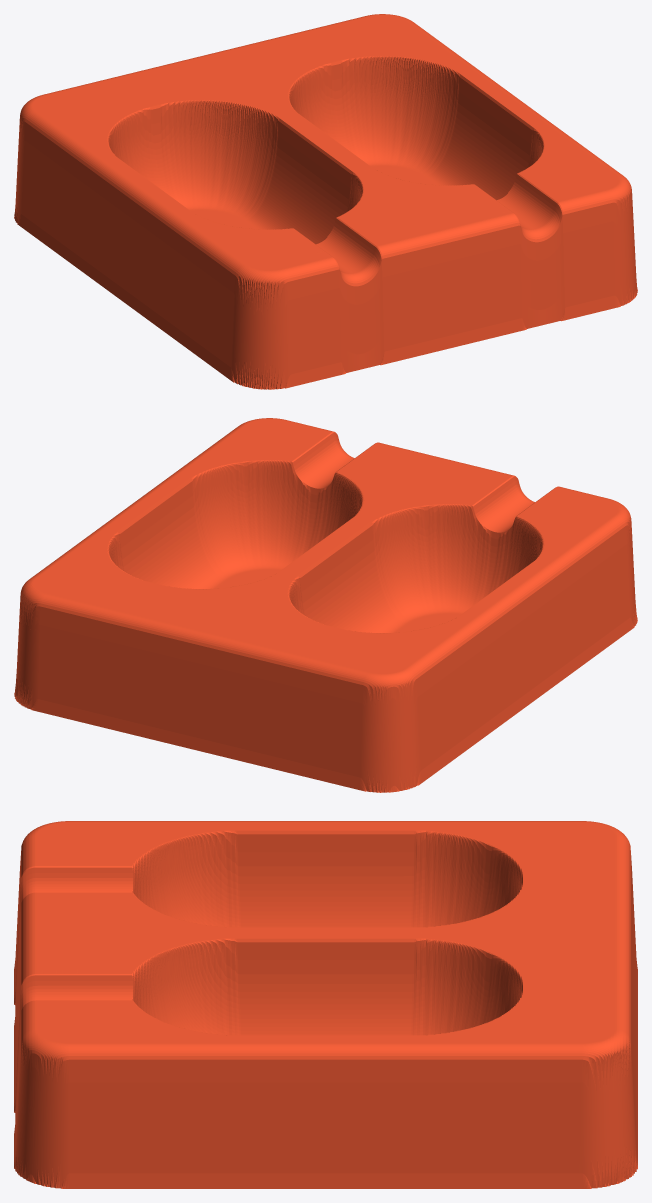
The model's file is mold.glb.
3 renders of one model, top to bottom at view 1: azimuth 30°, elevation 25°; view 2: azimuth 150°, elevation 25°; view 3: azimuth 270°, elevation 25°, orthographic. The views are drawn at different scales.
Visible parts, largest first — view 1: geometry_0; view 2: geometry_0; view 3: geometry_0.
Part boxes in pixels (x1=…): geometry_0: x1=14, y1=14, x2=637, y2=389; geometry_0: x1=14, y1=418, x2=637, y2=792; geometry_0: x1=14, y1=821, x2=637, y2=1188.
Size of the model in its own units: 0.0925 by 0.0245 by 0.1018.
